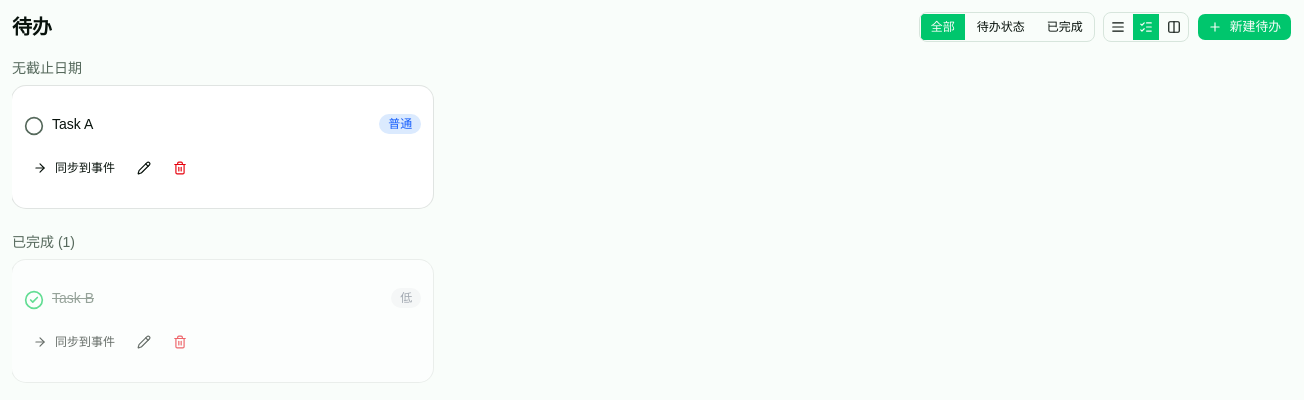
Test: TodosPage › switches to kanban view showing columns
The image size is (1304, 400).
expect the text "Task A" is shown: met, box [52, 116, 93, 132]
Click the button titled "看板" at (1174, 27), box [1160, 13, 1188, 41]
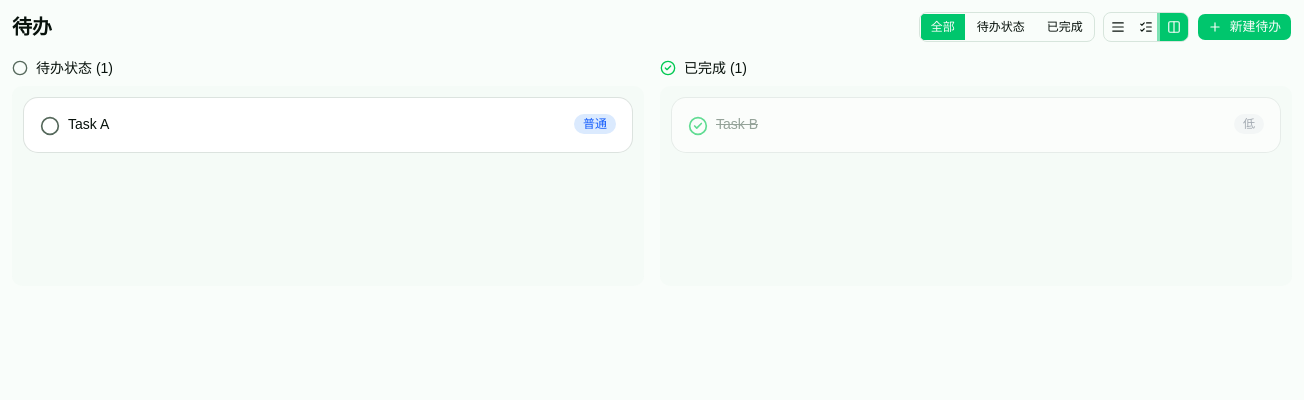
expect the heading "已完成 (1)" is shown: met, box [660, 60, 747, 76]
expect the heading "待办状态 (1)" is shown: met, box [12, 60, 113, 76]
